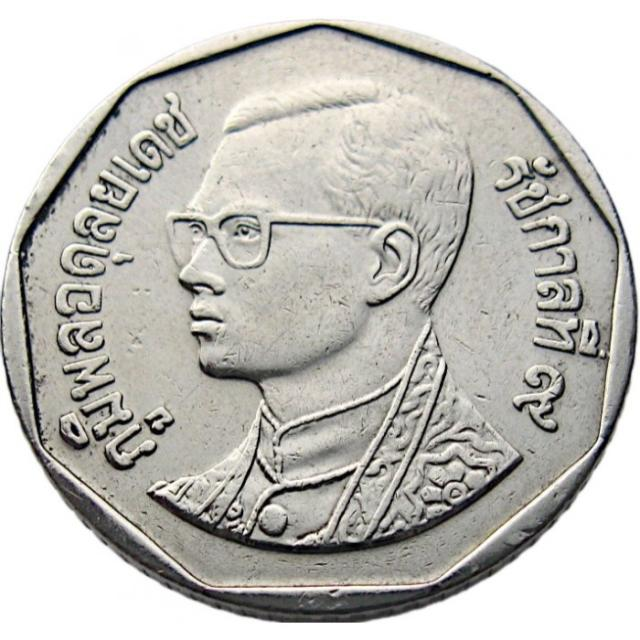5 Bath: (1, 17, 640, 633)
